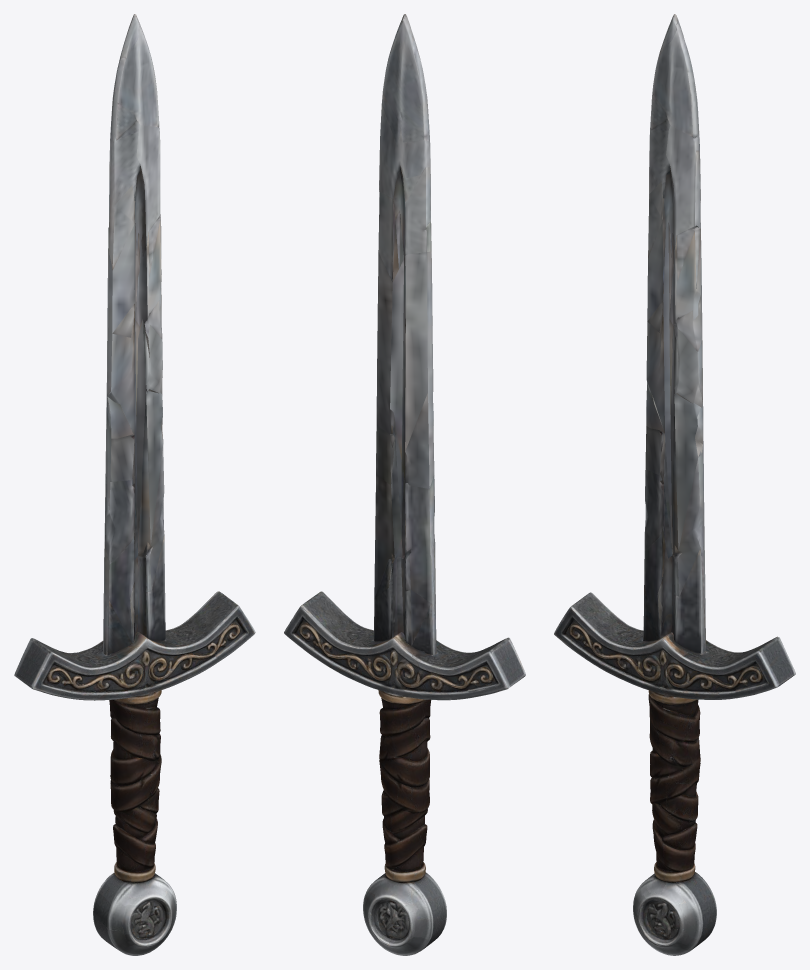
File: longsword.glb
The picture shows the model from 3 angles, left to right: view 1: azimuth 30°, elevation 25°; view 2: azimuth 150°, elevation 25°; view 3: azimuth 330°, elevation 25°; orthographic projection.
Parts seen in each view (by area): view 1: Mesh_0; view 2: Mesh_0; view 3: Mesh_0.
Part boxes in pixels (box(x1,y1,x2,y2)): Mesh_0: box(14, 14, 255, 955); Mesh_0: box(284, 14, 525, 955); Mesh_0: box(554, 14, 795, 955).
Bounding box in the file's own units: 0.2506 × 1 × 0.059.
1 material, 1 textured.
